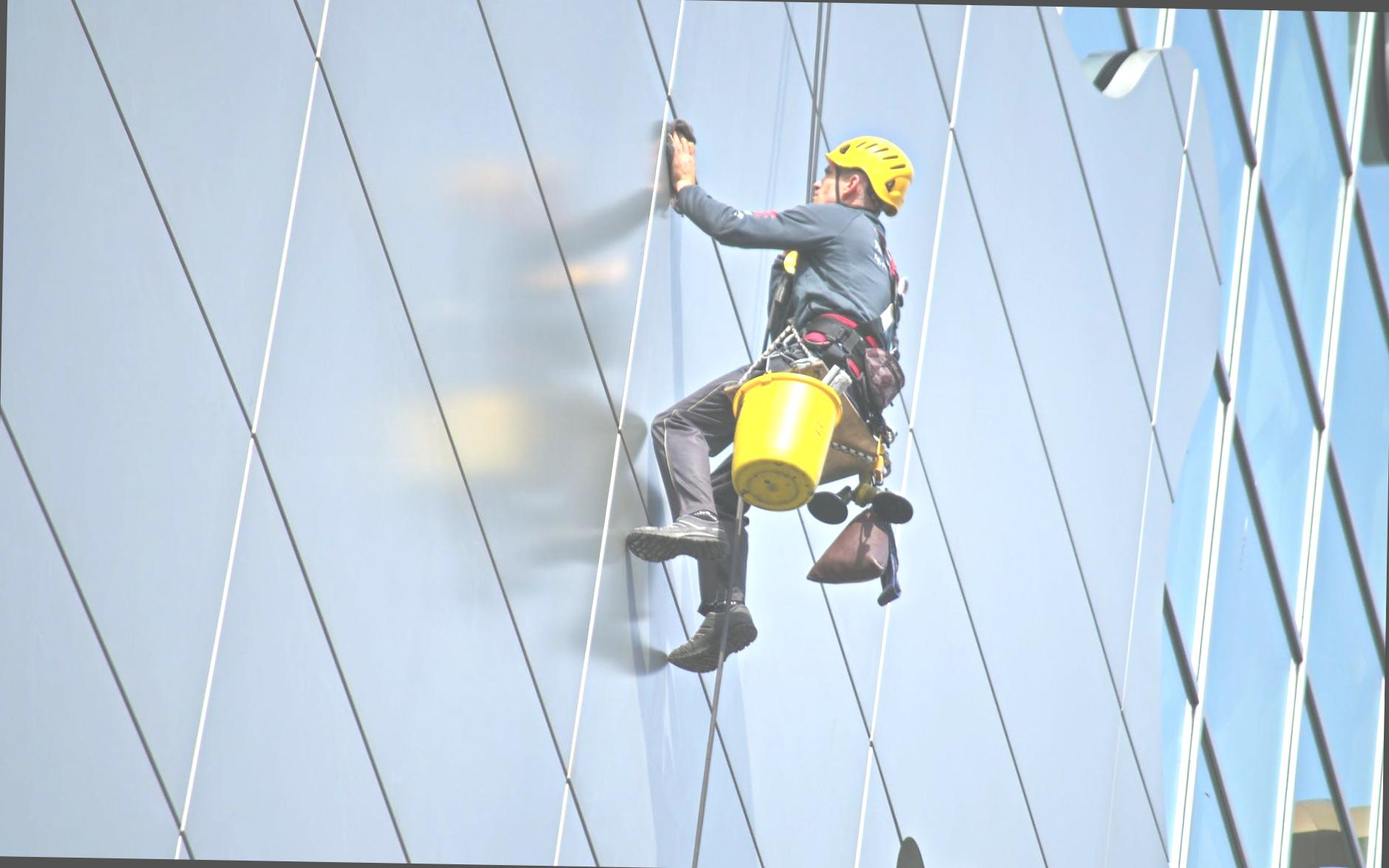helmet: (808, 127, 921, 220)
no_vest: (757, 217, 908, 362)
person: (633, 119, 923, 669)
